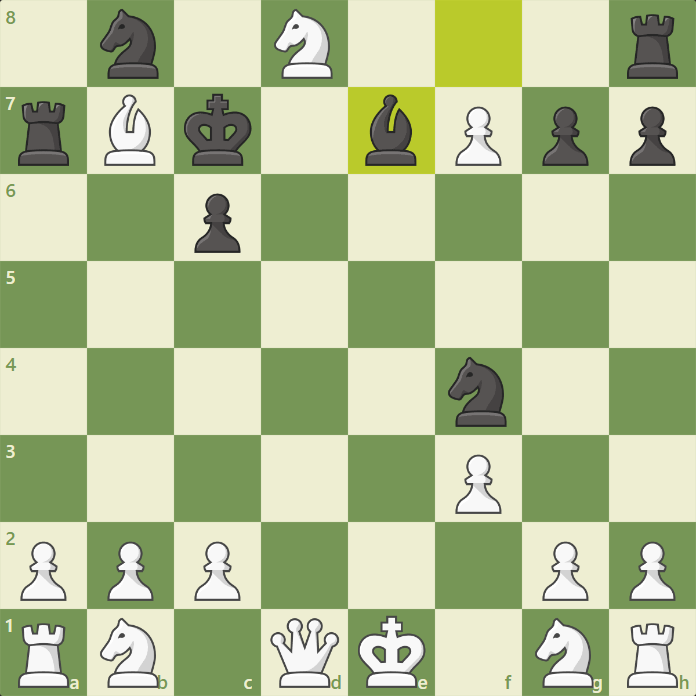B: (102, 92, 159, 169)
K: (357, 615, 427, 690)
N: (270, 7, 335, 81), (98, 615, 160, 690), (534, 617, 596, 691)
P: (452, 104, 506, 170), (18, 539, 68, 604), (103, 538, 153, 603), (191, 538, 241, 603), (452, 450, 502, 515), (539, 538, 589, 603), (626, 538, 676, 603)
Q: (269, 615, 341, 691)
R: (624, 621, 681, 691), (16, 621, 72, 691)
b: (362, 92, 421, 170)
k: (180, 93, 255, 168)
n: (98, 5, 162, 83), (445, 355, 510, 430)
p: (191, 191, 243, 257), (539, 102, 591, 168), (626, 102, 678, 168)
r: (623, 10, 680, 82), (16, 98, 73, 169)
